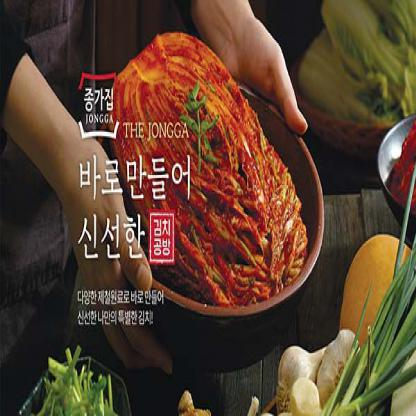kimchi: (101, 20, 314, 321)
